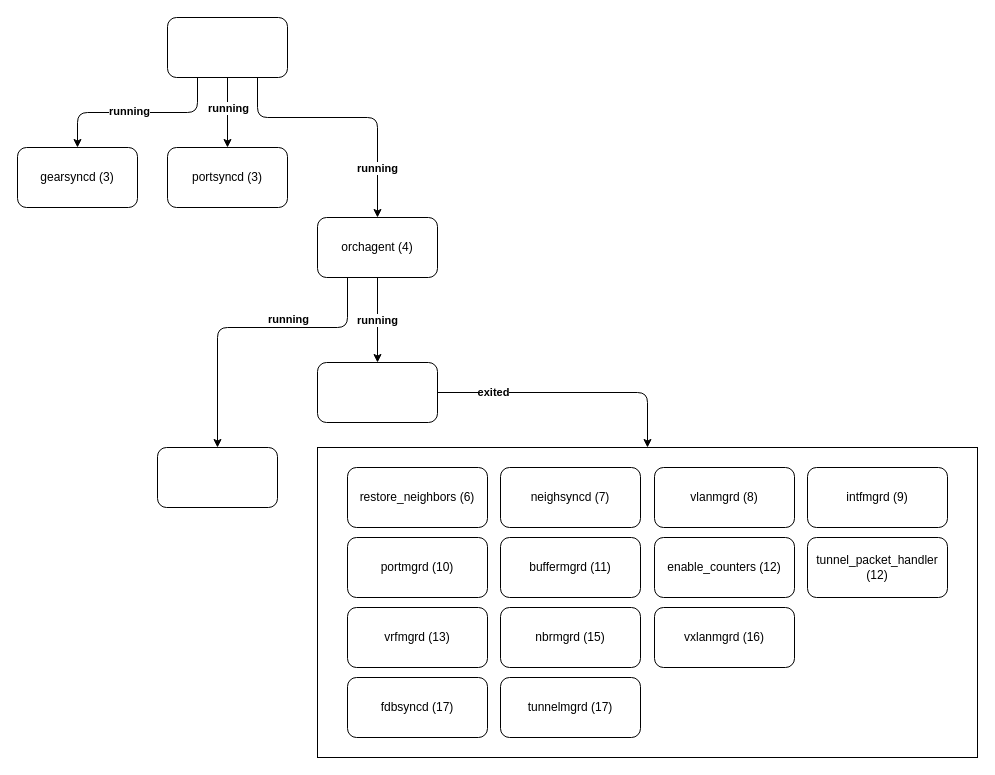
This 995x775 diagram has some shape labels left out. The centre of each missing label's shape, as x and y in pixels:
"coppmgrd (6)" belongs at [217,477].
"rsyslogd (1)" belongs at [227,47].
"swssconfig (5)" belongs at [377,392].
